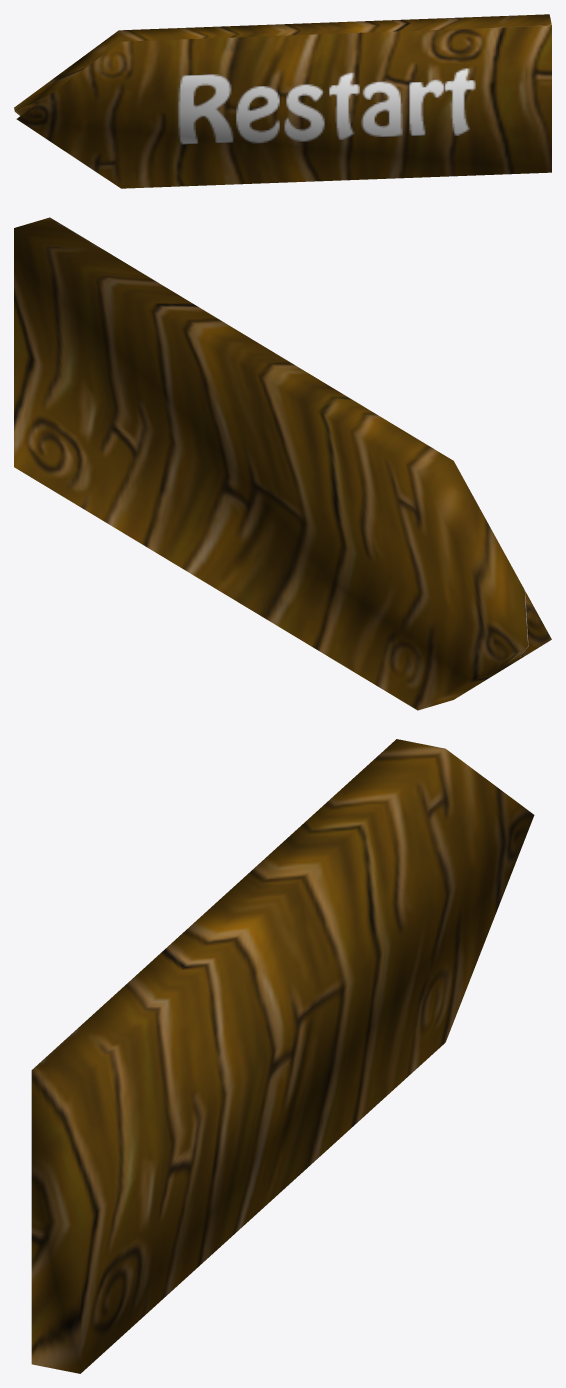
Rendered from restart.FBX.
3 renders of one model, top to bottom at view 1: azimuth 30°, elevation 25°; view 2: azimuth 150°, elevation 25°; view 3: azimuth 270°, elevation 25°, orthographic. The views are drawn at different scales.
Visible parts, largest first — view 1: Achievement01; view 2: Achievement01; view 3: Achievement01.
Boxes of the visible parts, left/top/right/bottom form: Achievement01: left=14, top=14, right=551, bottom=188; Achievement01: left=14, top=217, right=551, bottom=710; Achievement01: left=31, top=739, right=534, bottom=1373.
Size of the model in its own units: 14.3 by 4.65 by 7.21.
